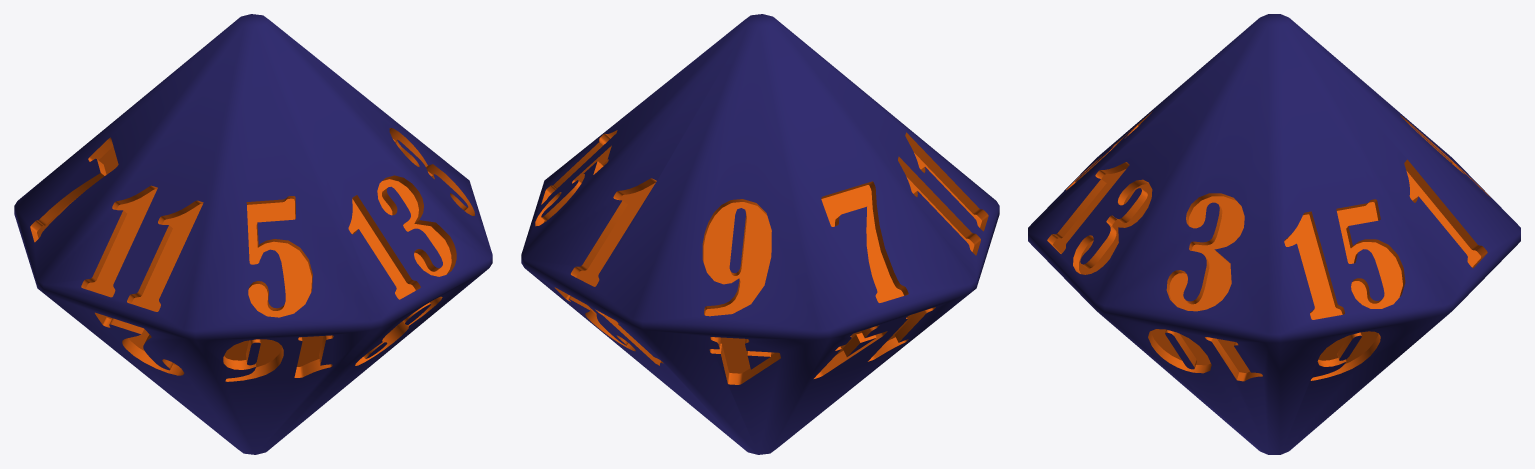
File: dice16a.glb
3 views of the same model, side by side, from view 1: azimuth 30°, elevation 25°; view 2: azimuth 150°, elevation 25°; view 3: azimuth 270°, elevation 25° (orthographic).
Parts seen in each view (by area): view 1: A, B; view 2: A, B; view 3: A, B.
Part boxes in pixels (x1,y1,x2,y2): A: (14,14,492,454); B: (30,128,474,381); A: (521,14,999,454); B: (535,130,988,384); A: (1028,14,1520,454); B: (1047,111,1490,381).
Bounding box in the file's own units: 7.77 × 7.46 × 7.77.
